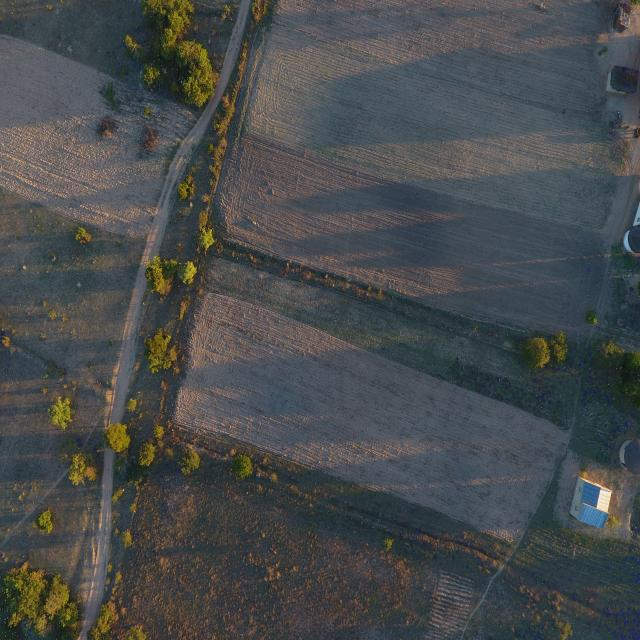boundaries: (213, 227, 585, 383)
